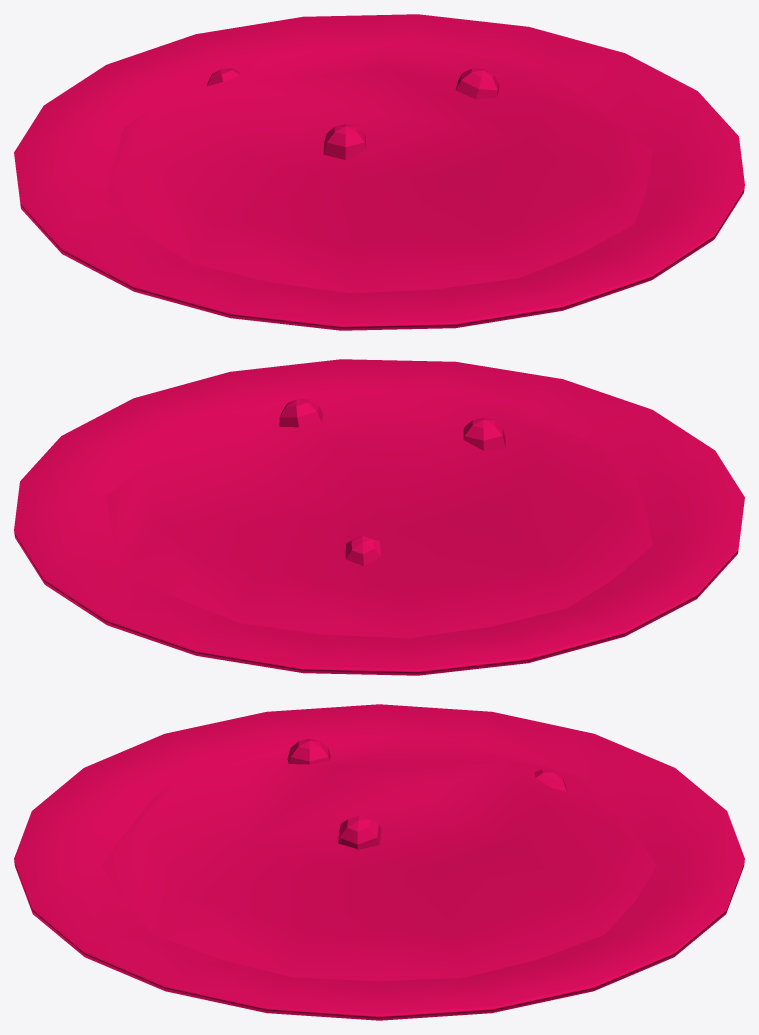
Rendered from Plate_Food_02_Lod0.fbx.
The picture shows the model from 3 angles, top to bottom: view 1: azimuth 30°, elevation 25°; view 2: azimuth 150°, elevation 25°; view 3: azimuth 270°, elevation 25°; orthographic projection.
Visible parts, largest first — view 1: Plate_Food_02_Lod0; view 2: Plate_Food_02_Lod0; view 3: Plate_Food_02_Lod0.
Part boxes in pixels (x1,y1,x2,y2): Plate_Food_02_Lod0: (14,14,744,330); Plate_Food_02_Lod0: (14,359,744,675); Plate_Food_02_Lod0: (14,704,744,1020).
Size of the model in its own units: 28.93 by 6.08 by 28.93.
